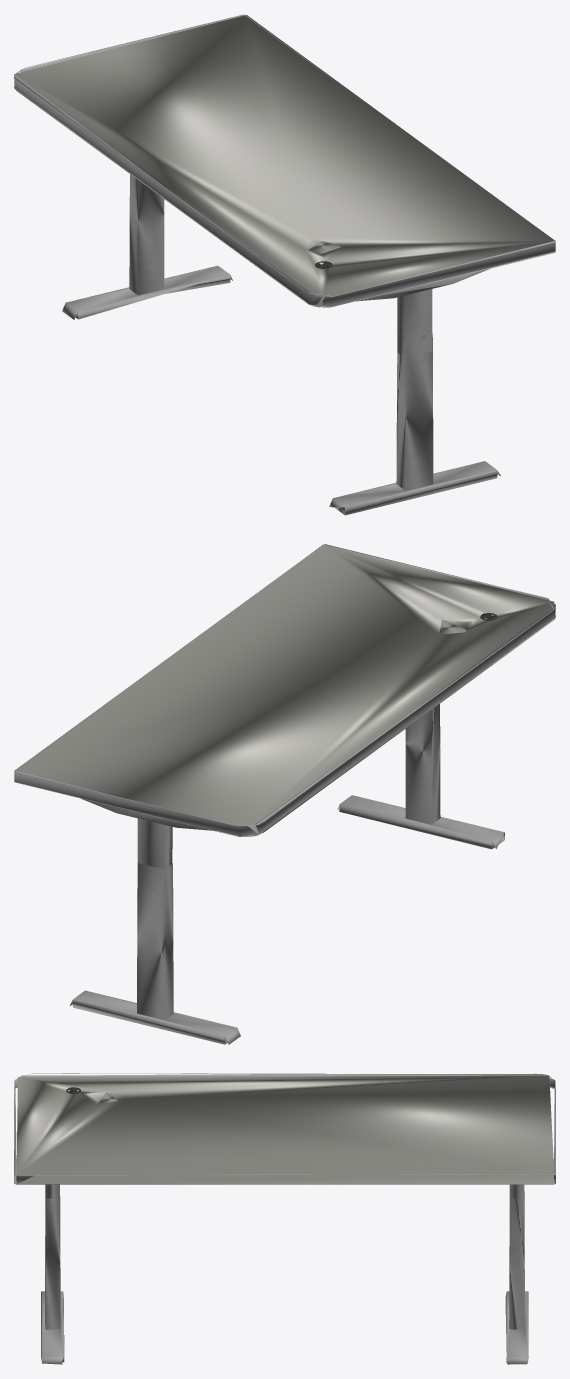
File: desk_a01.glb
The picture shows the model from 3 angles, top to bottom: view 1: azimuth 30°, elevation 25°; view 2: azimuth 150°, elevation 25°; view 3: azimuth 270°, elevation 25°; orthographic projection. The views are drawn at different scales.
Parts seen in each view (by area): view 1: desk_a01; view 2: desk_a01; view 3: desk_a01.
Part boxes in pixels (x1,y1,x2,y2): desk_a01: [14, 14, 555, 515]; desk_a01: [14, 544, 555, 1044]; desk_a01: [14, 1073, 555, 1364].
Size of the model in its own units: 0.8018 by 0.7591 by 1.8.
Materials: 3 (3 with a texture image).
